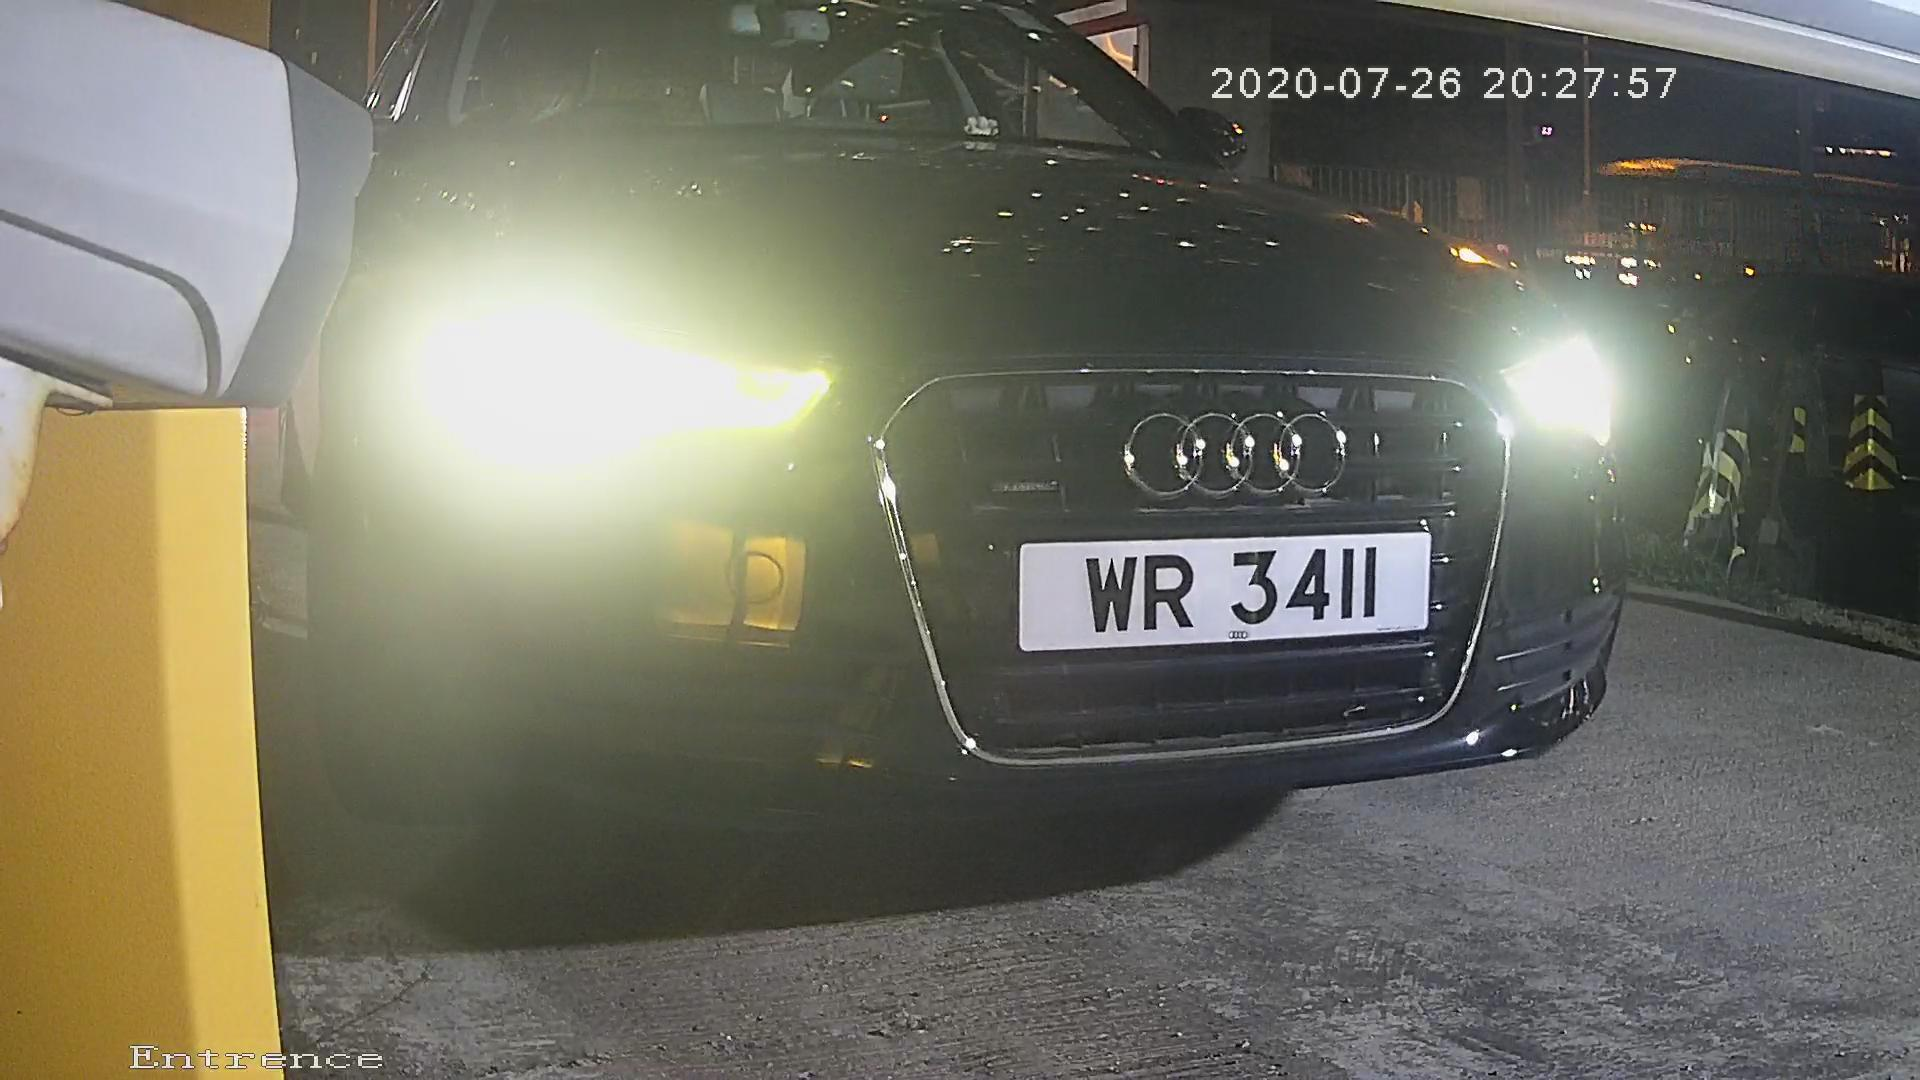Car: (61, 44, 1792, 902)
License Plate: (978, 516, 1458, 656)
